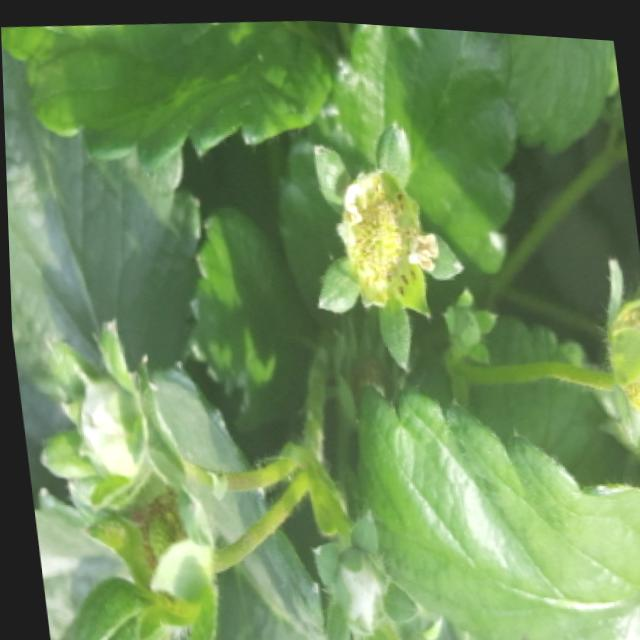Blossom Blight: (332, 165, 440, 298)
